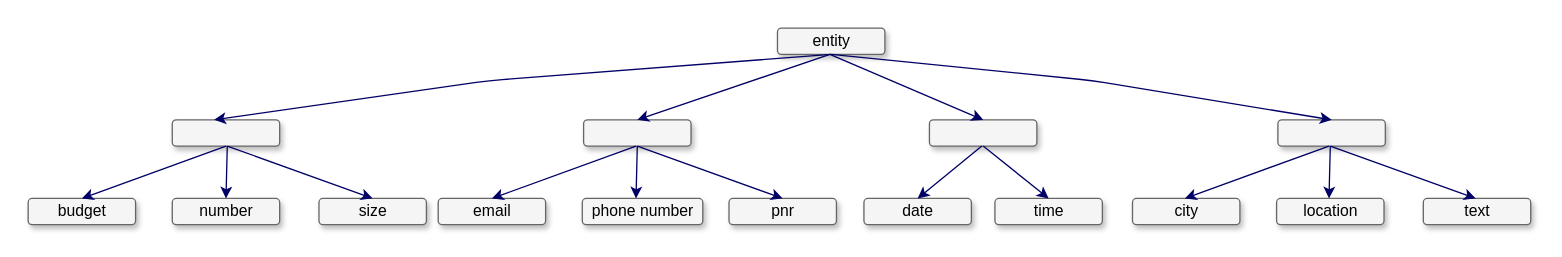
Image size: 1562x257. Some labels were removed from this diagram. The shapes that lost their labels are listed below. From the top down, each one's centre as x and y in pixels, then its label:
At [227,134]: "numeral".
At [638,134]: "pattern".
At [984,134]: "temporal".
At [1332,134]: "textual".
